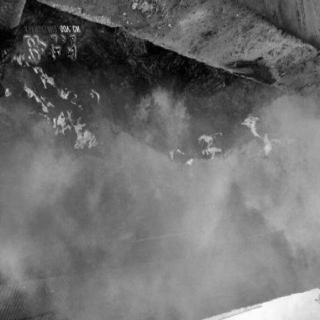Fire: (197, 134, 221, 160)
